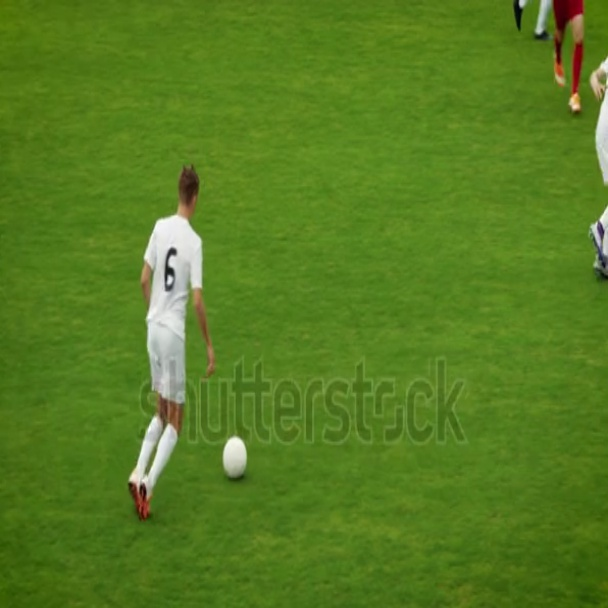ball: (219, 433, 251, 482)
